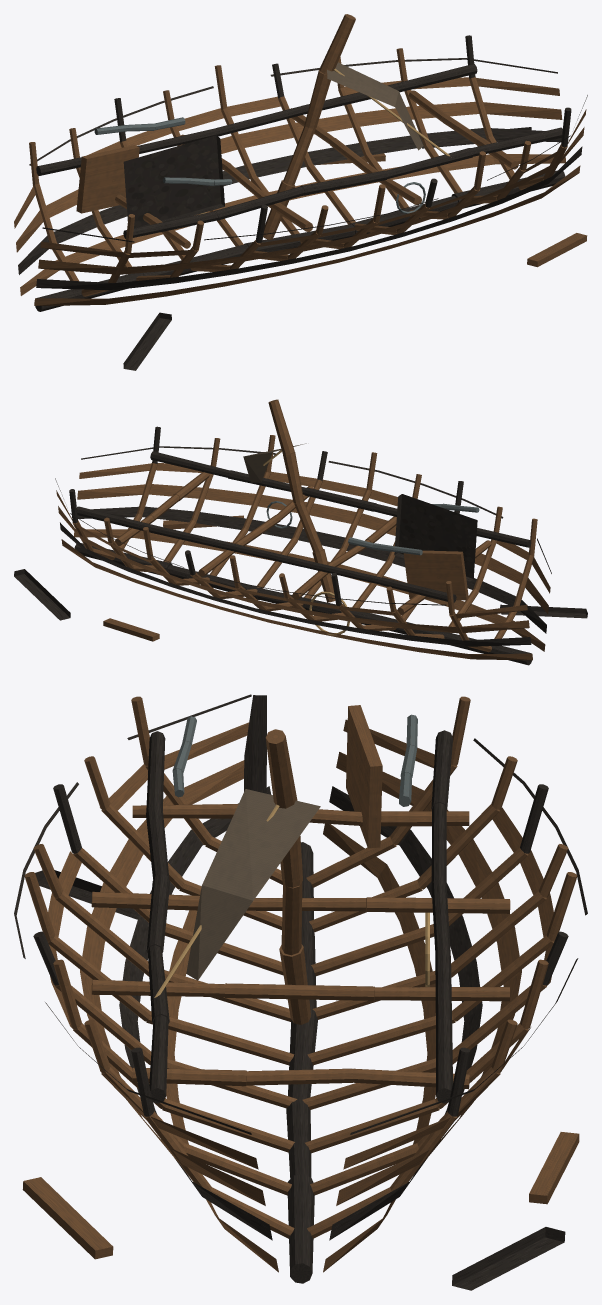
The model's file is en-001_shipwreck_hull_chunk__large.obj.
The picture shows the model from 3 angles, top to bottom: view 1: azimuth 30°, elevation 25°; view 2: azimuth 150°, elevation 25°; view 3: azimuth 270°, elevation 25°; orthographic projection. The views are drawn at different scales.
Parts seen in each view (by area): view 1: en-001_shipwreck_hull_chunk__large; view 2: en-001_shipwreck_hull_chunk__large; view 3: en-001_shipwreck_hull_chunk__large.
Part boxes in pixels (bbox=[...]): en-001_shipwreck_hull_chunk__large: bbox=[14, 14, 587, 370]; en-001_shipwreck_hull_chunk__large: bbox=[14, 399, 587, 665]; en-001_shipwreck_hull_chunk__large: bbox=[14, 694, 587, 1290].
Bounding box in the file's own units: 4.18 × 1.67 × 2.27.
5 materials, 5 textured.
